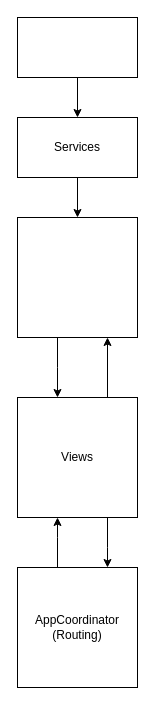
This 155x705 diagram has some shape labels left out. Each missing label, with the centre of its shape:
"Network" belongs at (77,47).
"ViewModels" belongs at (77,277).
